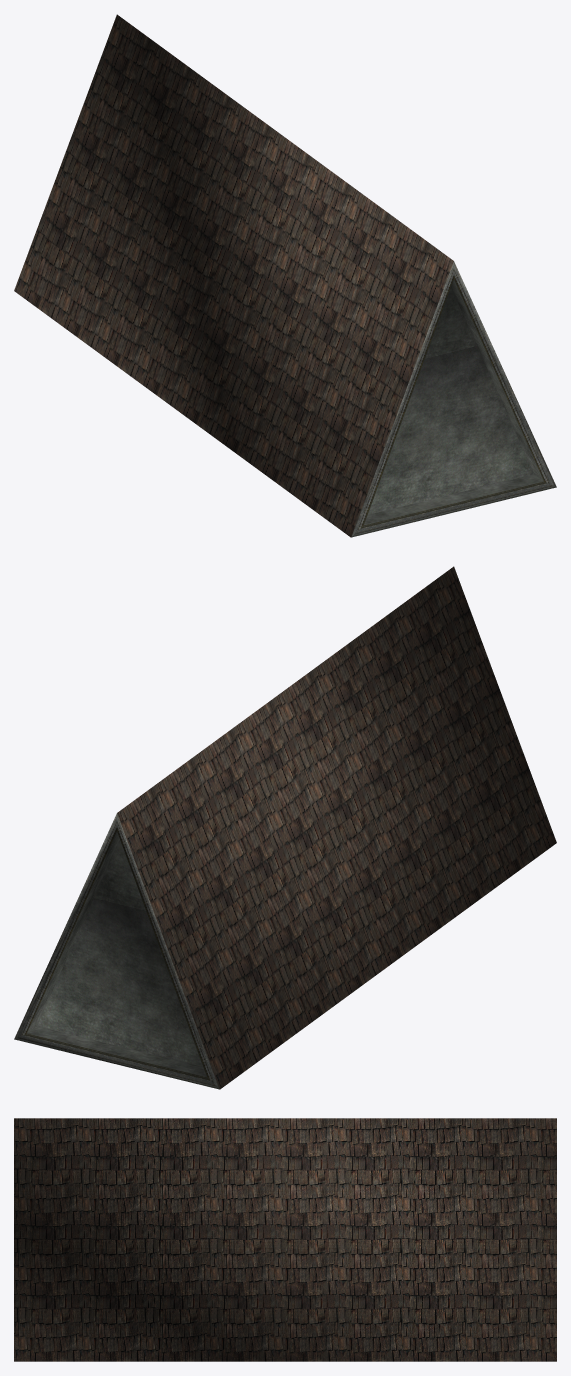
The model's file is Roof384.dae.
3 views of the same model, one above another, from view 1: azimuth 30°, elevation 25°; view 2: azimuth 150°, elevation 25°; view 3: azimuth 270°, elevation 25° (orthographic). The views are drawn at different scales.
Parts seen in each view (by area): view 1: TTR_SMRoof384; view 2: TTR_SMRoof384; view 3: TTR_SMRoof384.
Part boxes in pixels (x1,y1,x2,y2): TTR_SMRoof384: (14,14,556,537); TTR_SMRoof384: (14,566,556,1089); TTR_SMRoof384: (14,1118,556,1361).
Size of the model in its own units: 11.52 by 32.64 by 13.44.
Materials: 3 (3 with a texture image).
